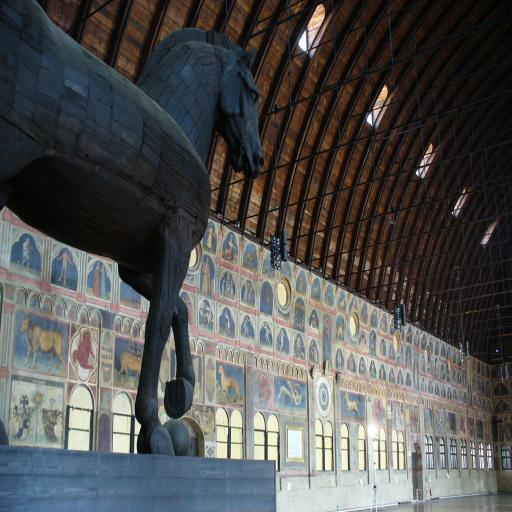horse: (0, 0, 266, 457)
